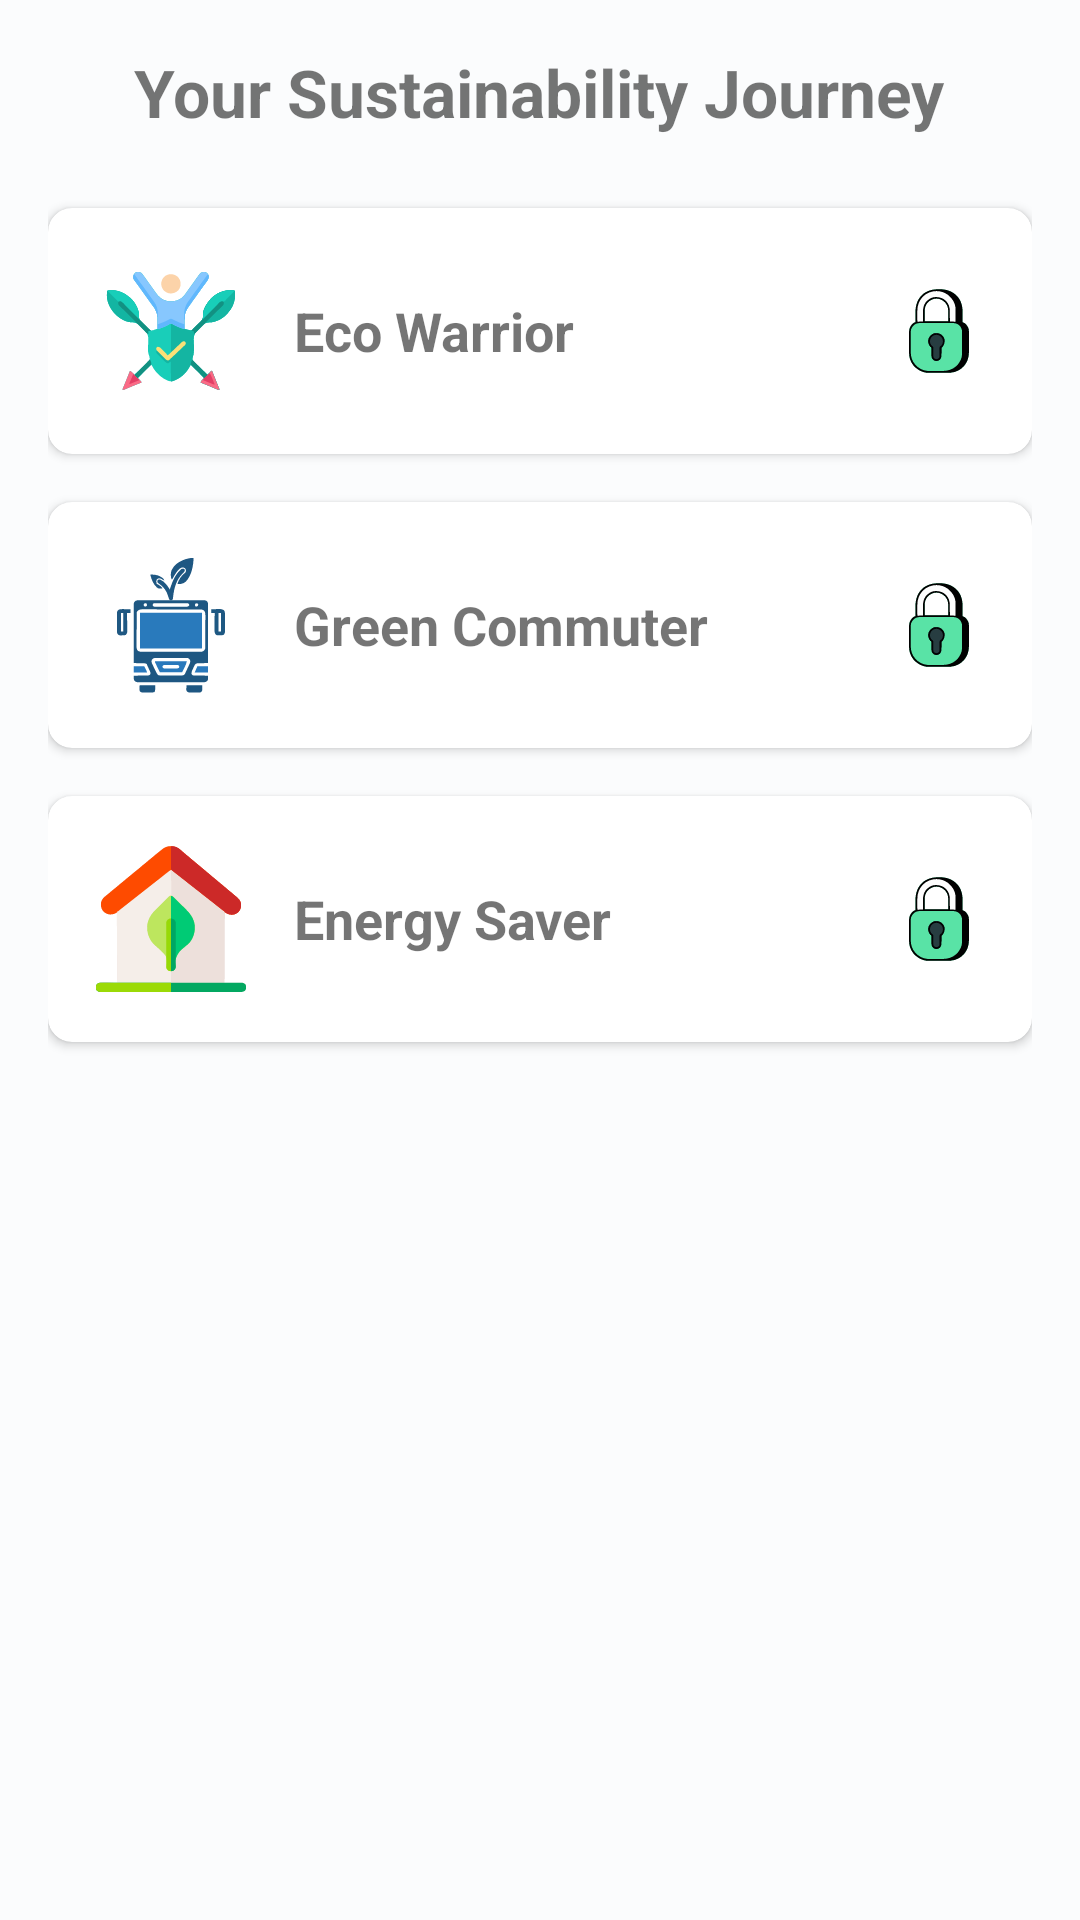

Icons on this 1080px x 1920px Android screen, each with the point to tap as (x=x, y=y):
Status: (x=939, y=331), (x=939, y=625), (x=939, y=919)
